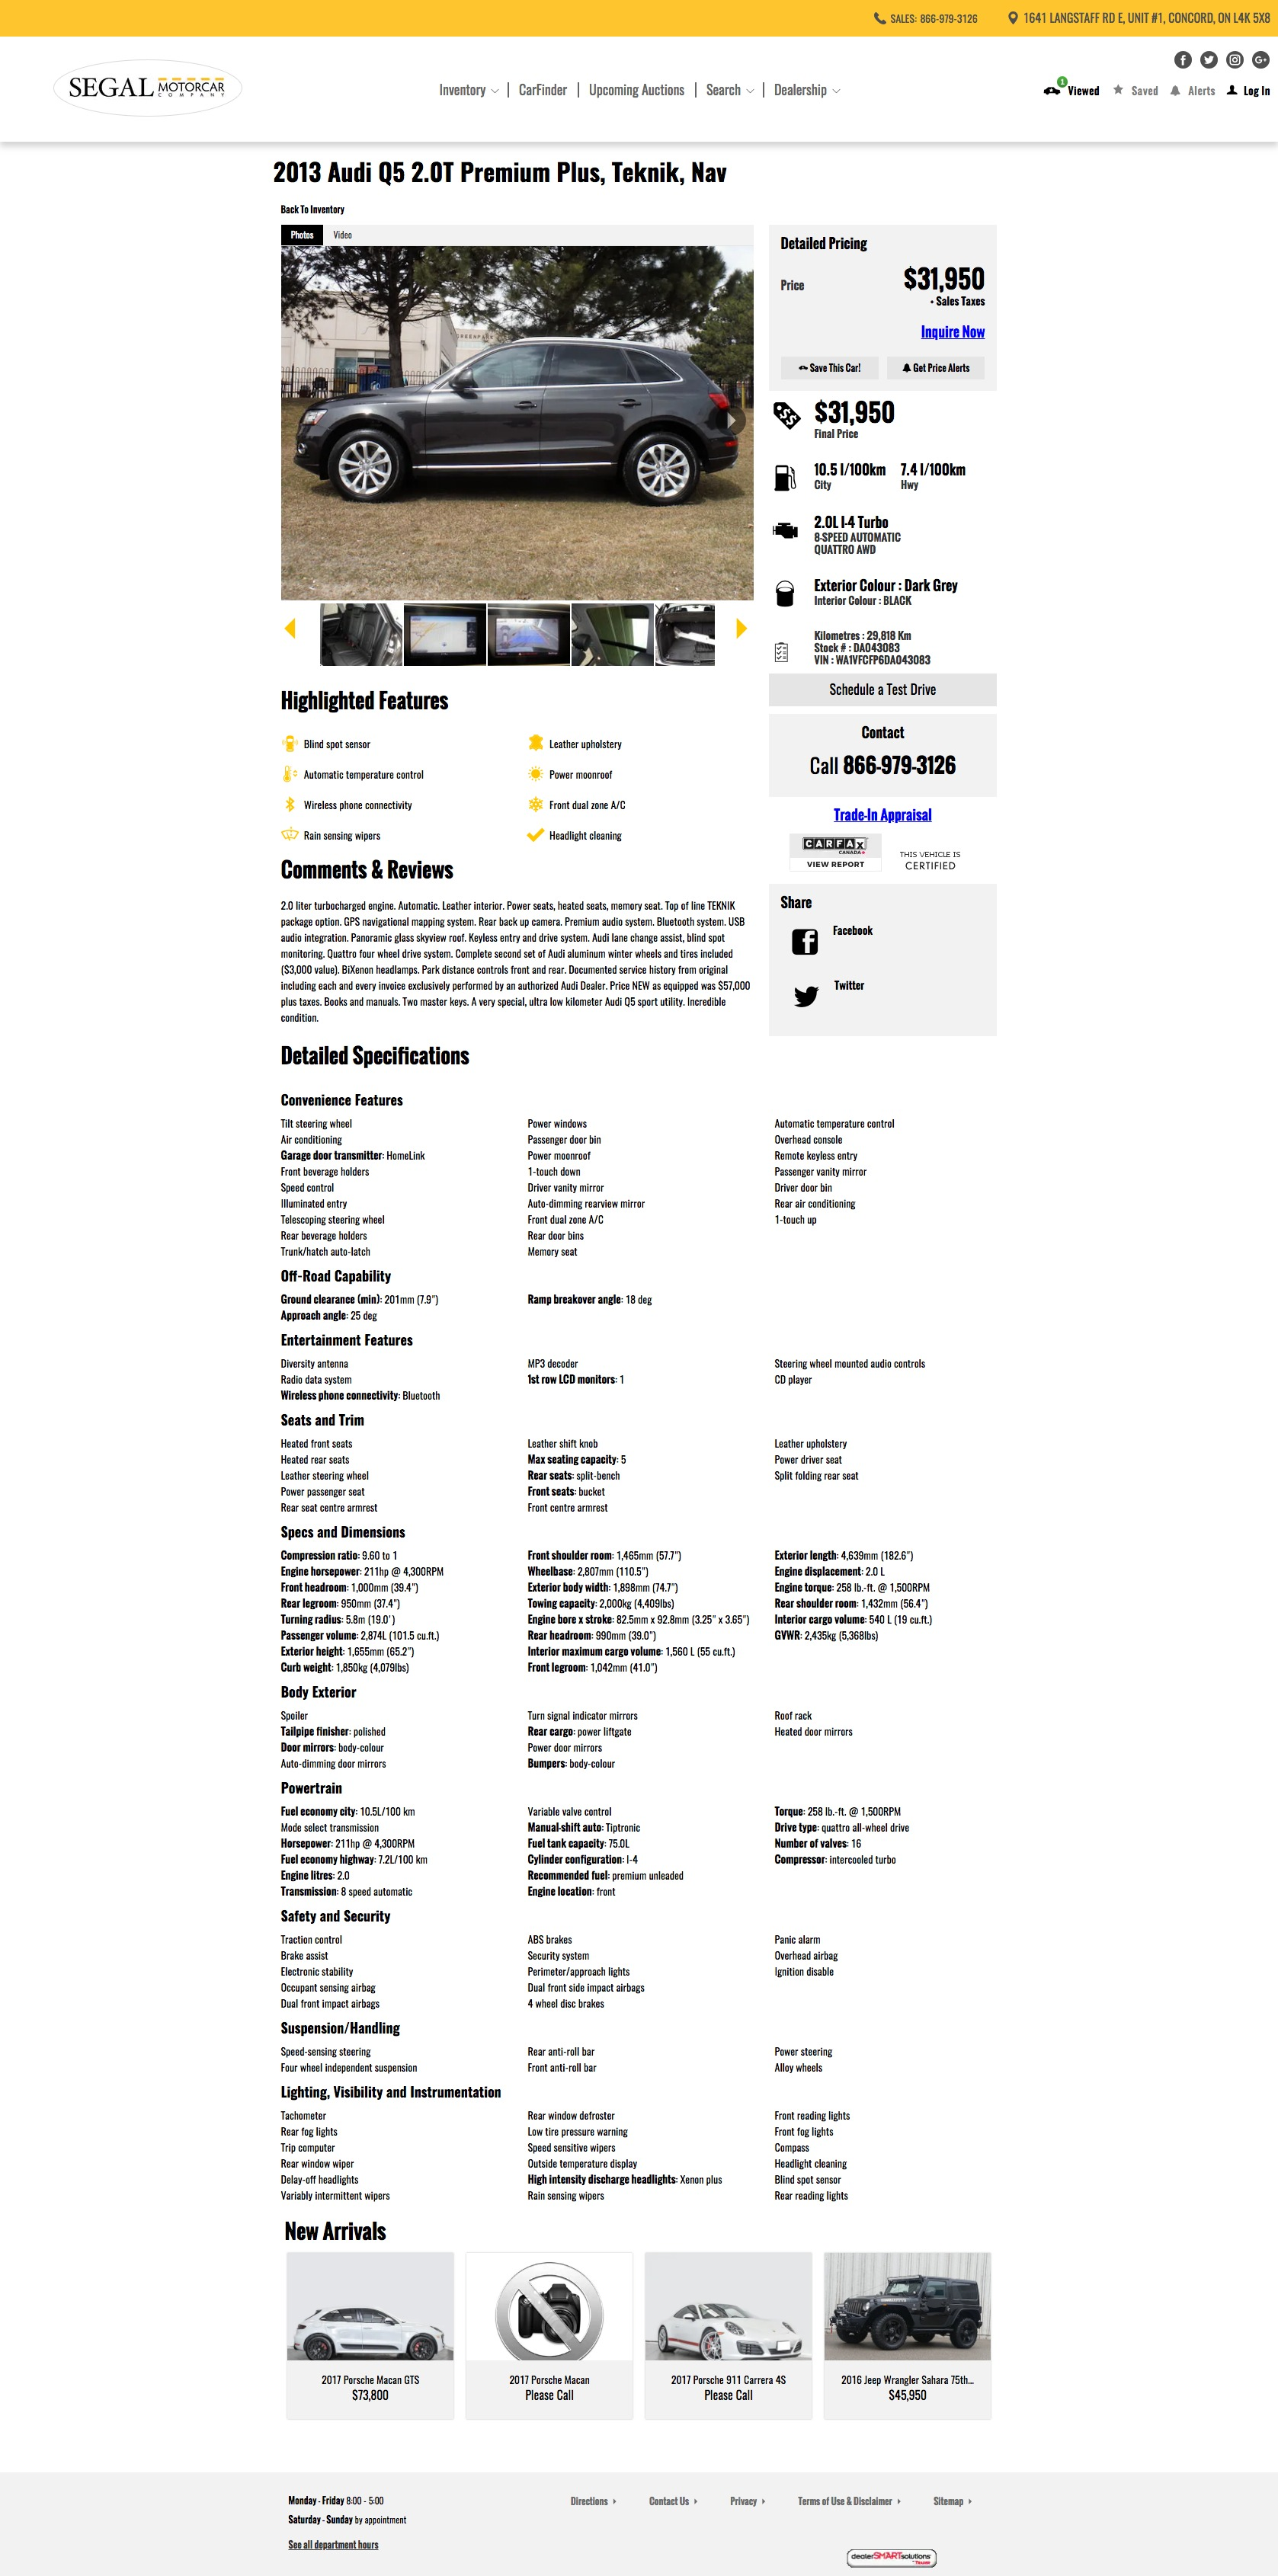car: (738, 619, 749, 641)
